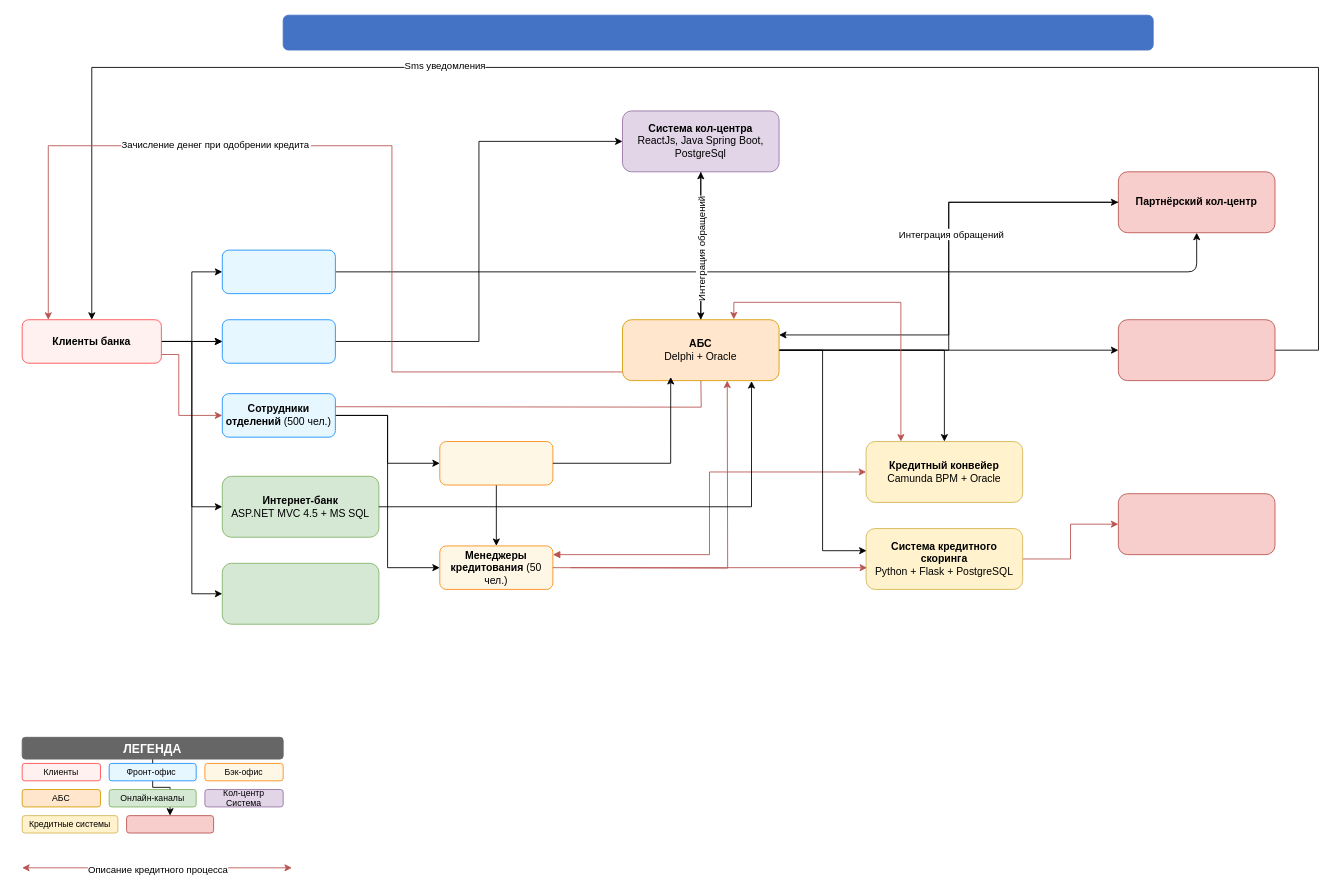
Some shapes in this 1341 by 891 pixel diagram are drawn without their labels. The shapes that lost their labels are listed below. From the top down, each one's box as (x1, y1, x2, y2) in pixels, then its label:
(282, 14, 1153, 50): Схема интеграции приложений с участниками процессов банка "Стандарт"
(221, 249, 335, 294): Партнёрский кол-центр (100 чел.)
(221, 319, 335, 363): Операторы кол-центра (200 чел.)
(1118, 319, 1275, 381): СМС-шлюз Телеком-оператор
(439, 441, 553, 485): Менеджеры депозитов (50 чел.)
(1118, 493, 1275, 555): Бюро кредитных историй
(221, 562, 379, 624): Сайт банка PHP + React.js
(126, 815, 214, 833): Внешние сервисы
